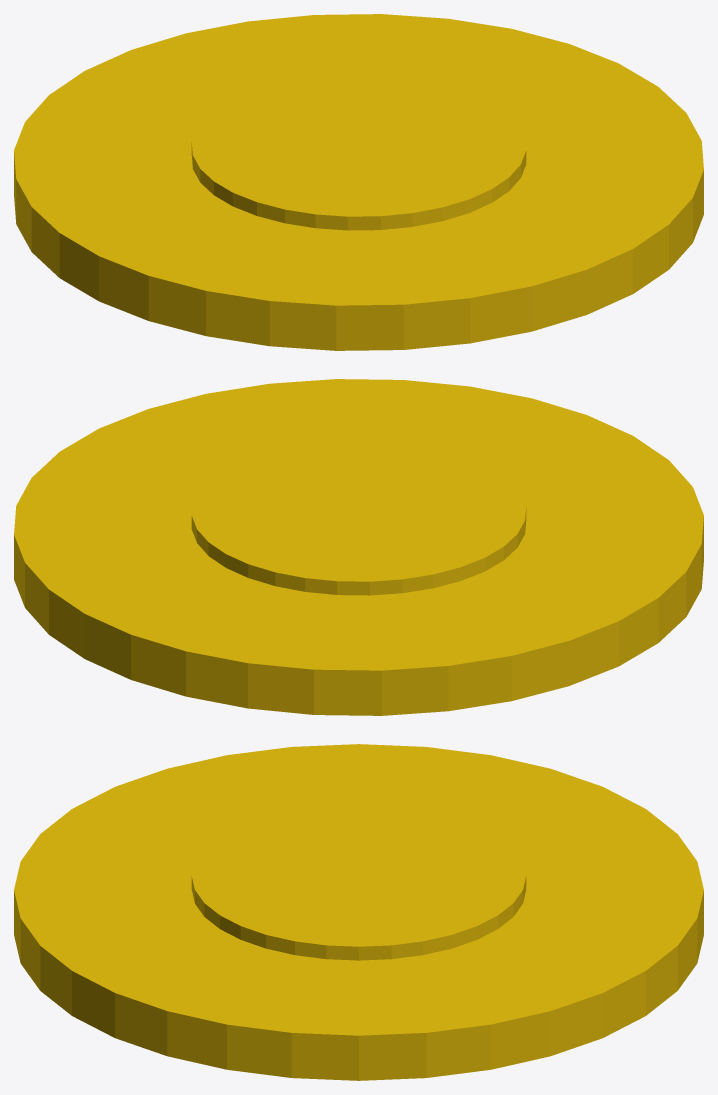
3 renders of one model, top to bottom at view 1: azimuth 30°, elevation 25°; view 2: azimuth 150°, elevation 25°; view 3: azimuth 270°, elevation 25°, orthographic.
Visible parts, largest first — view 1: Cylinder; view 2: Cylinder; view 3: Cylinder.
Boxes of the visible parts, bbox=[...] form: Cylinder: bbox=[14, 14, 703, 350]; Cylinder: bbox=[14, 379, 703, 715]; Cylinder: bbox=[14, 744, 703, 1080].
Bounding box in the file's own units: 68.93 × 6.5 × 68.93.
